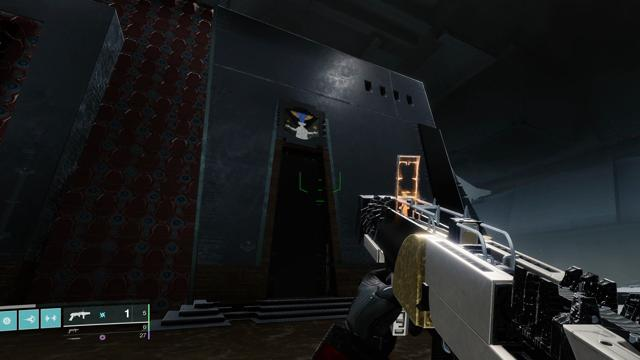drink: (282, 107, 320, 140)
